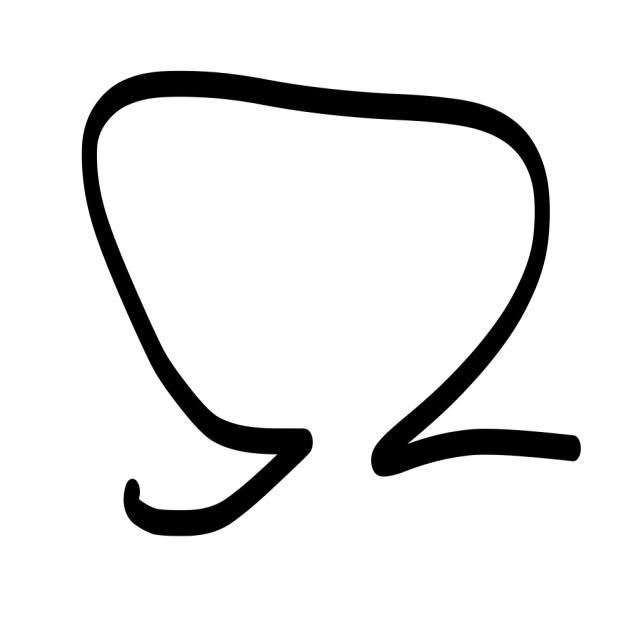ohms: (40, 13, 617, 581)
